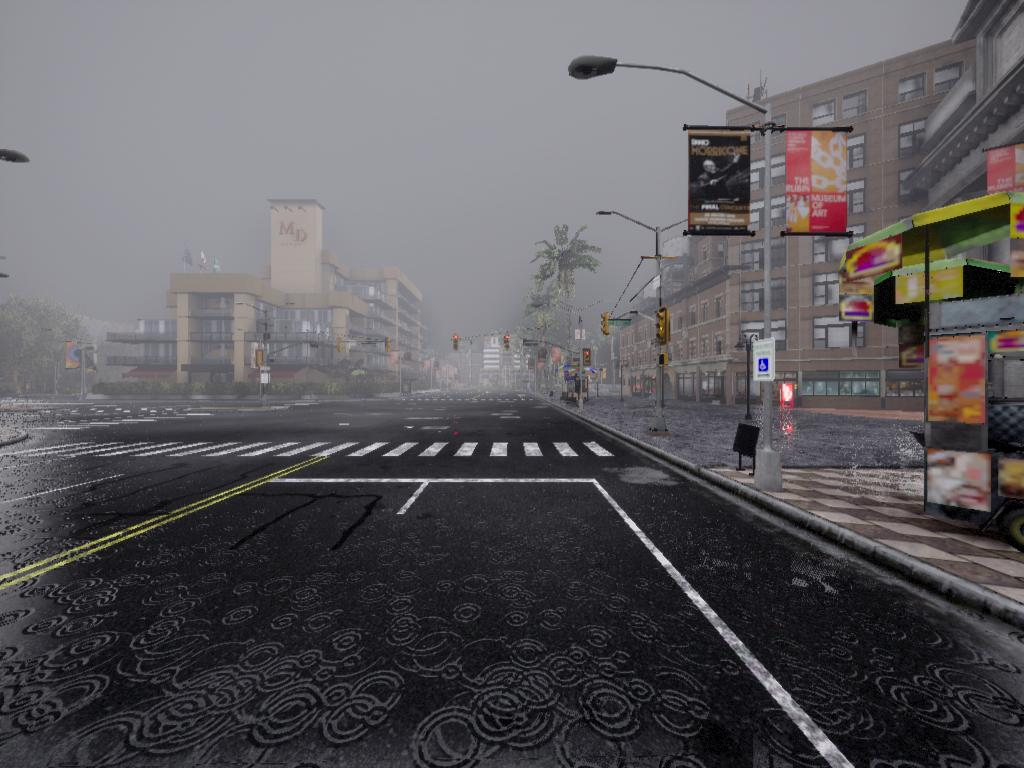traffic_light: (657, 311, 672, 344), (601, 316, 613, 338), (584, 351, 595, 366), (660, 355, 670, 369), (257, 351, 264, 370), (453, 336, 461, 350), (503, 335, 511, 349), (386, 337, 392, 353), (338, 339, 343, 354)
